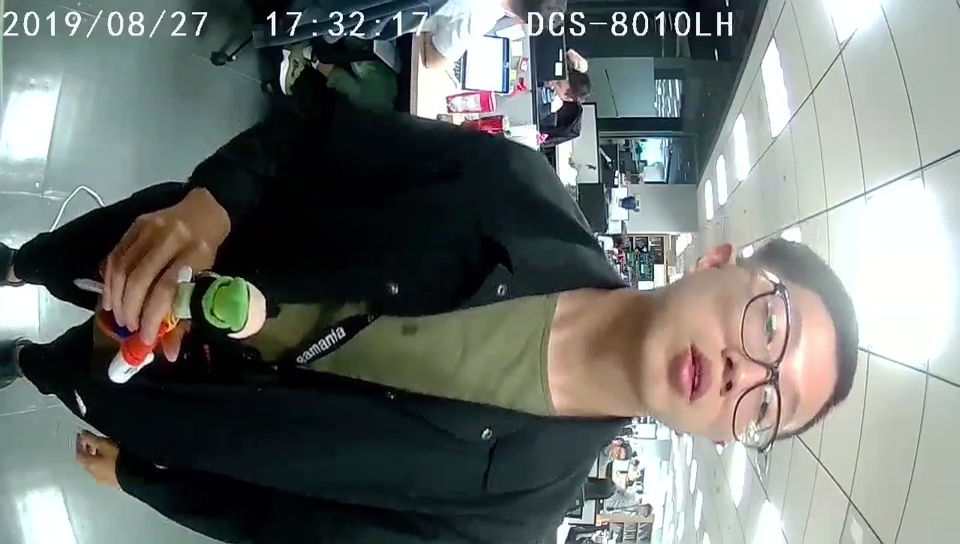goofy: (95, 272, 267, 384)
